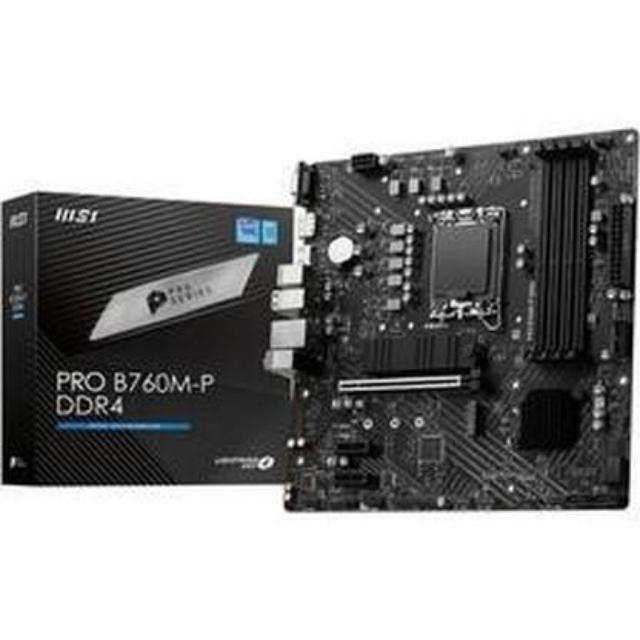Mainboard: (286, 126, 632, 514)
